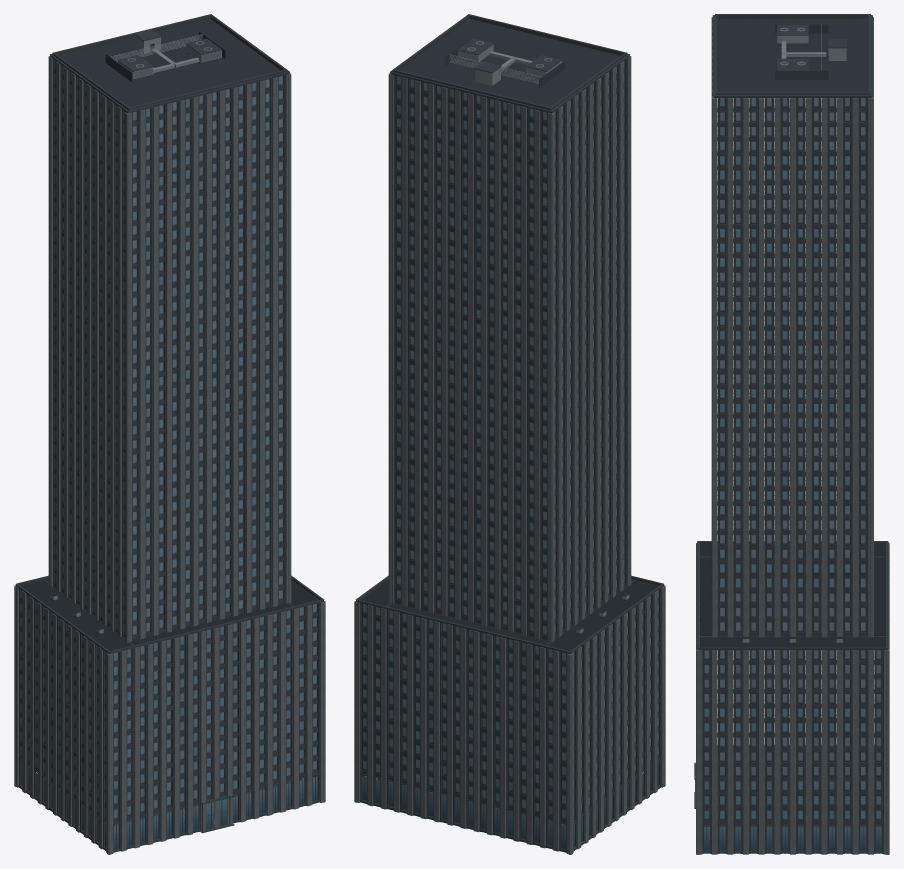
Rendered from von-badel.glb.
3 renders of one model, left to right at view 1: azimuth 30°, elevation 25°; view 2: azimuth 150°, elevation 25°; view 3: azimuth 270°, elevation 25°, orthographic. The views are drawn at different scales.
Visible parts, largest first — view 1: trim, stone, shaft, bronze, podium, roof, terrace, glass, mechanical; view 2: trim, stone, shaft, bronze, podium, roof, terrace, glass, mechanical; view 3: trim, stone, shaft, bronze, podium, roof, terrace, glass, mechanical.
Part boxes in pixels (x1,y1,x2,y2): trim: (14, 56, 325, 854); stone: (16, 16, 323, 852); shaft: (55, 60, 283, 635); bronze: (15, 14, 324, 849); podium: (21, 590, 317, 819); roof: (59, 19, 280, 107); terrace: (20, 579, 318, 650); glass: (21, 762, 317, 848); mechanical: (50, 34, 224, 824); trim: (354, 56, 665, 854); stone: (356, 16, 663, 852); shaft: (396, 60, 624, 635); bronze: (355, 14, 664, 849); podium: (362, 590, 658, 819); roof: (399, 19, 620, 107); terrace: (361, 579, 659, 650); glass: (362, 762, 658, 848); mechanical: (449, 41, 629, 633); trim: (695, 17, 889, 854); stone: (694, 15, 888, 853); shaft: (719, 98, 866, 631); bronze: (694, 14, 888, 850); podium: (704, 650, 881, 820); roof: (717, 18, 868, 91); terrace: (700, 544, 885, 647); glass: (704, 827, 881, 850); mechanical: (743, 25, 846, 642).
Size of the model in its own units: 57.35 by 187 by 43.78.
Materials: 9 (7 with a texture image).
